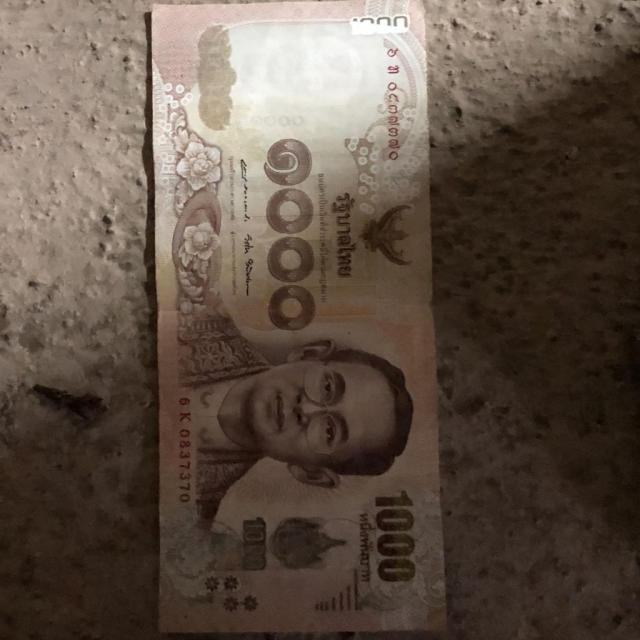THAI1000: (151, 0, 445, 632)
